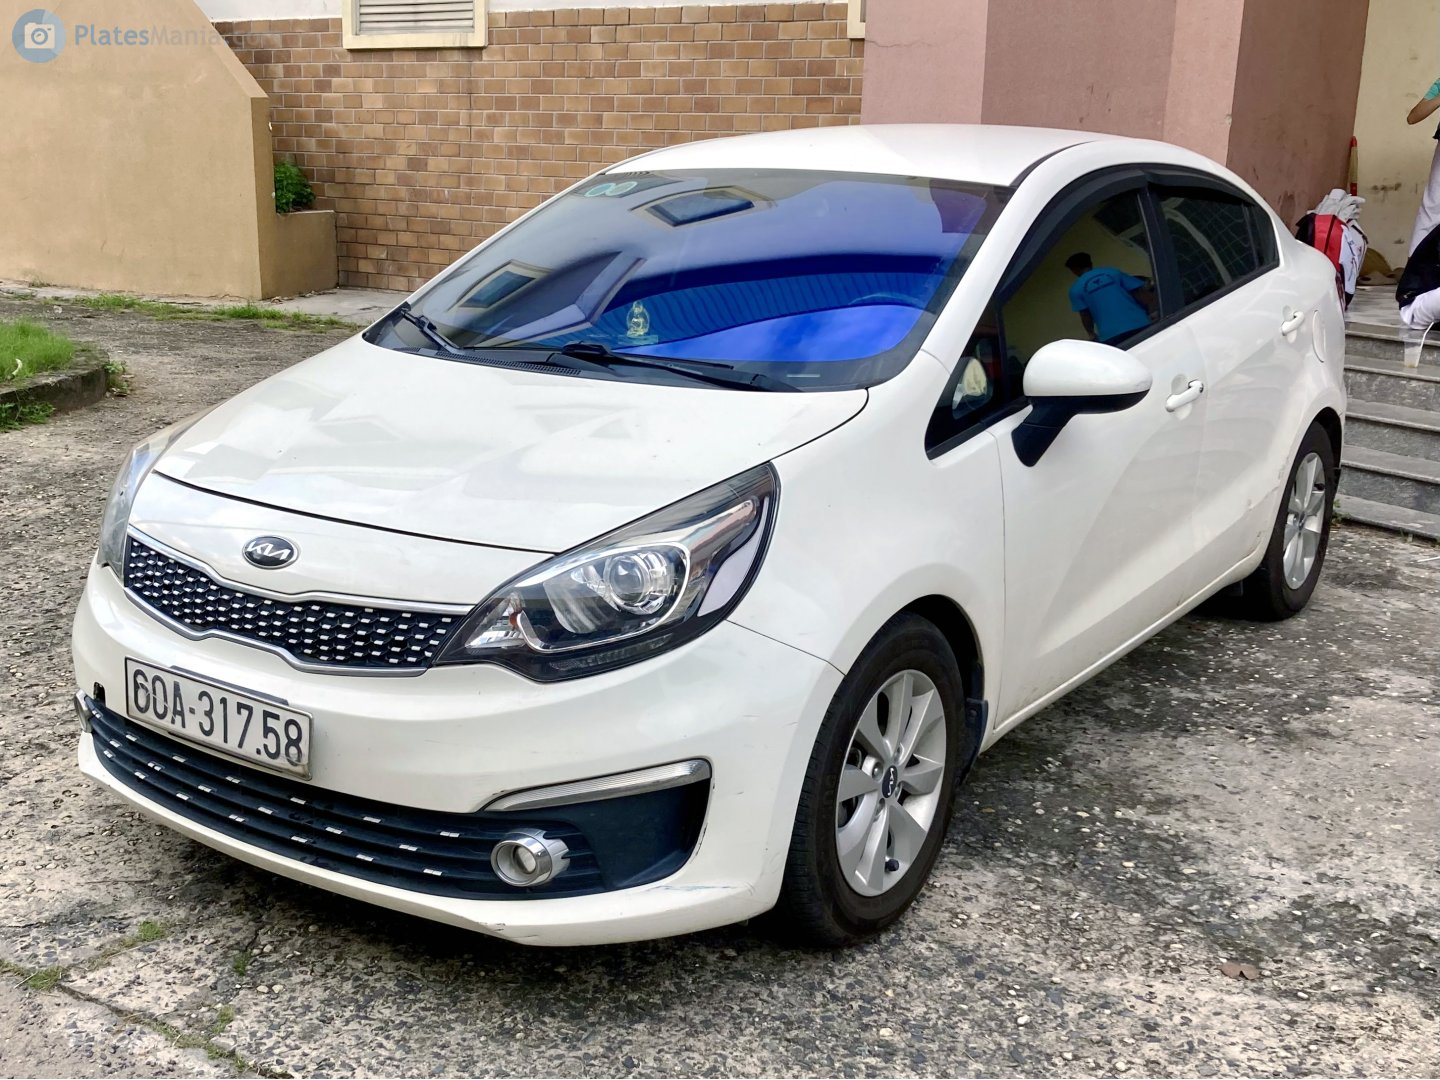bien_so: (126, 657, 313, 778)
